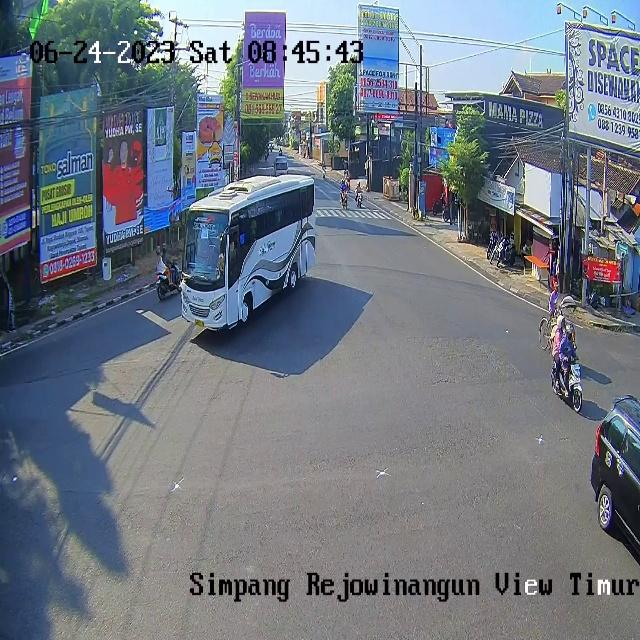bus: (551, 358, 582, 413), (156, 260, 182, 300), (340, 189, 348, 210), (356, 191, 362, 208)
car: (182, 175, 316, 332), (274, 156, 288, 174)
motorcycle: (591, 394, 640, 552)
